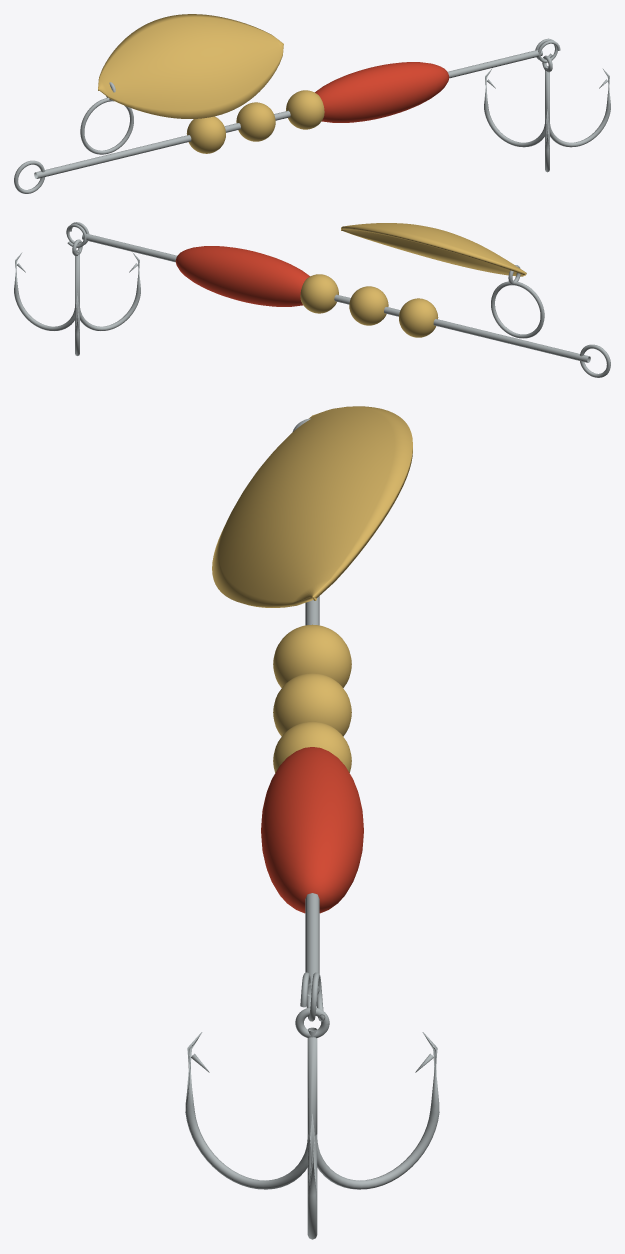
Rendered from spinner.glb.
3 renders of one model, top to bottom at view 1: azimuth 30°, elevation 25°; view 2: azimuth 150°, elevation 25°; view 3: azimuth 270°, elevation 25°, orthographic. The views are drawn at different scales.
Parts seen in each view (by area): view 1: spinner specimen; view 2: spinner specimen; view 3: spinner specimen.
Part boxes in pixels (x1=…): spinner specimen: x1=14, y1=14, x2=610, y2=193; spinner specimen: x1=14, y1=222, x2=610, y2=377; spinner specimen: x1=185, y1=406, x2=439, y2=1239.
Size of the model in its own units: 1.92 by 0.633 by 0.3548.
